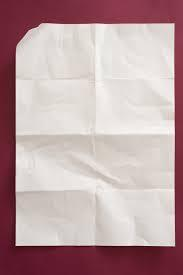plastic: (16, 23, 175, 248)
